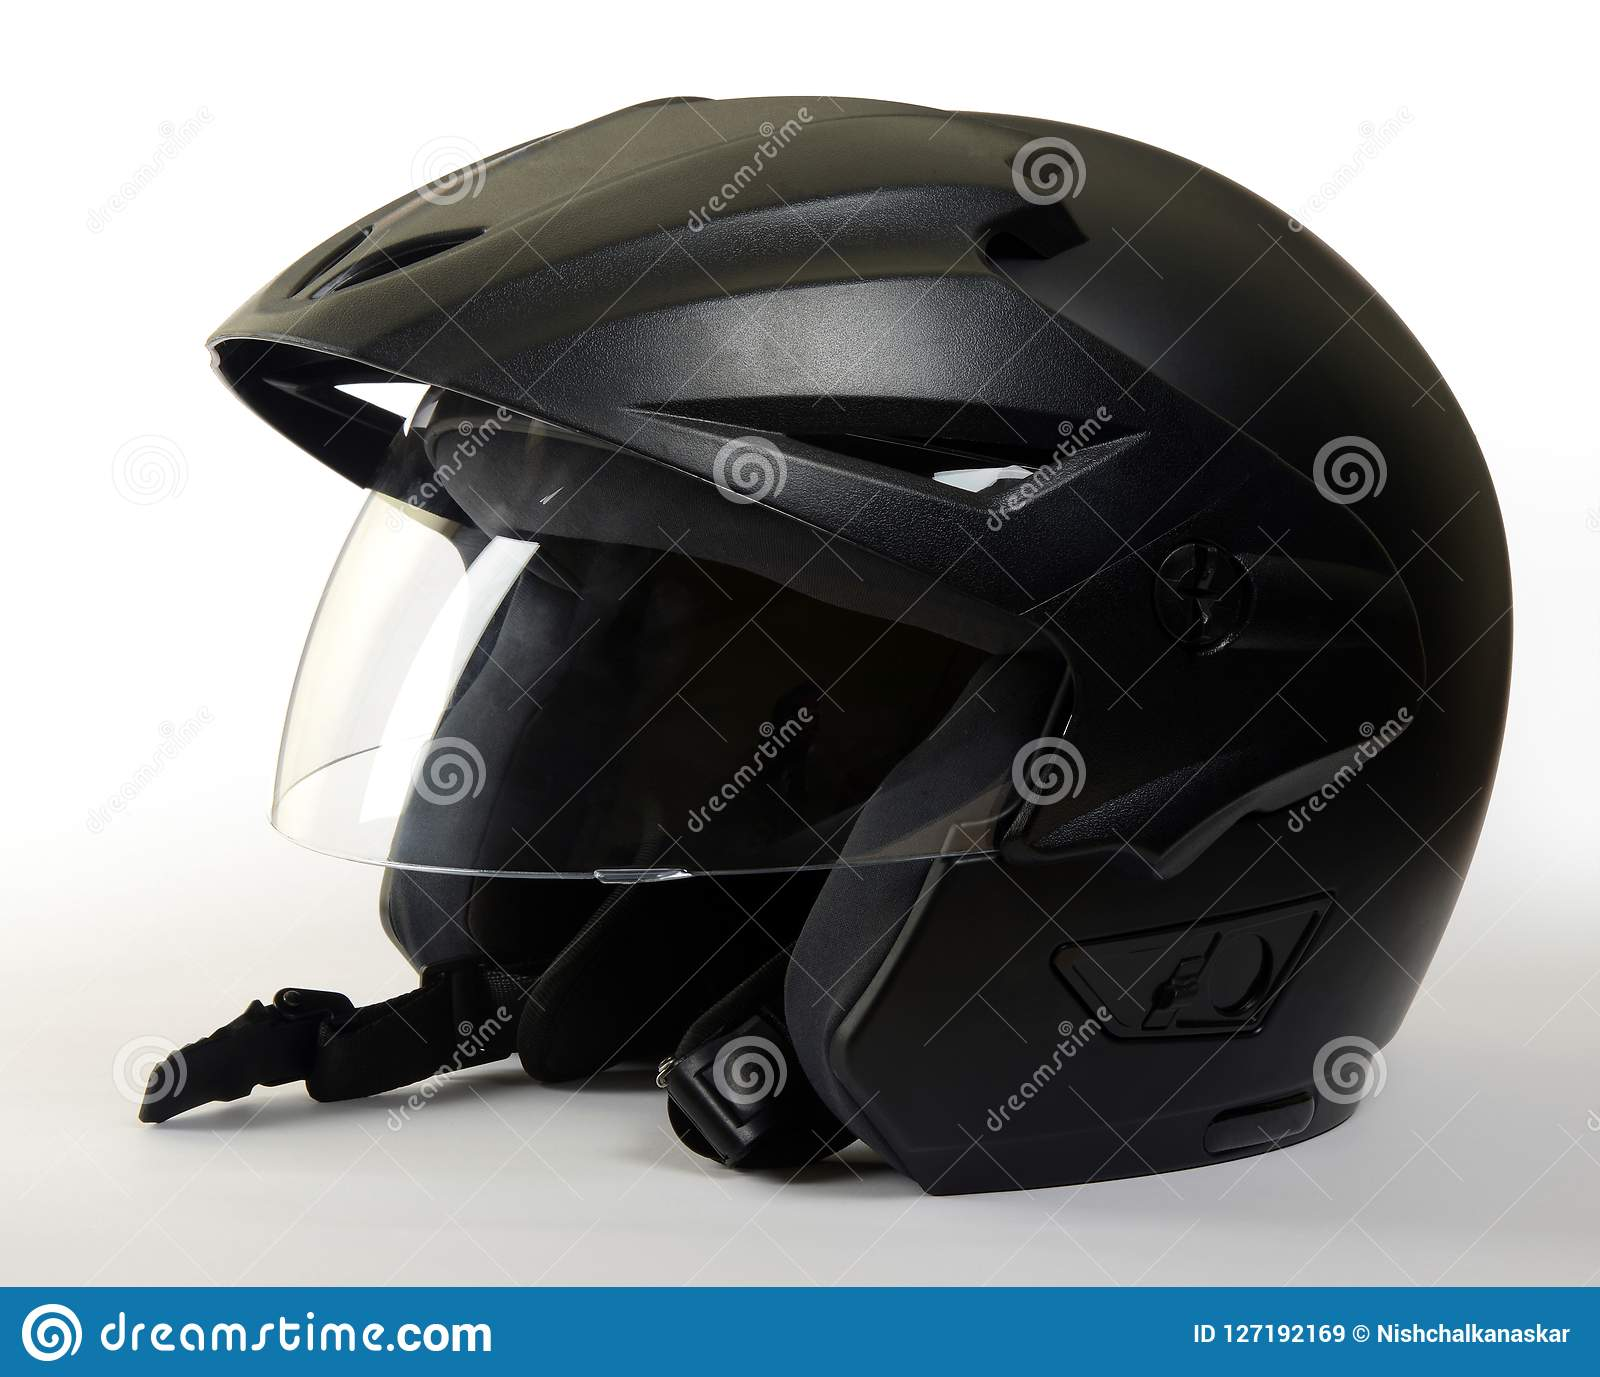with_helmet: (173, 73, 1521, 1214)
